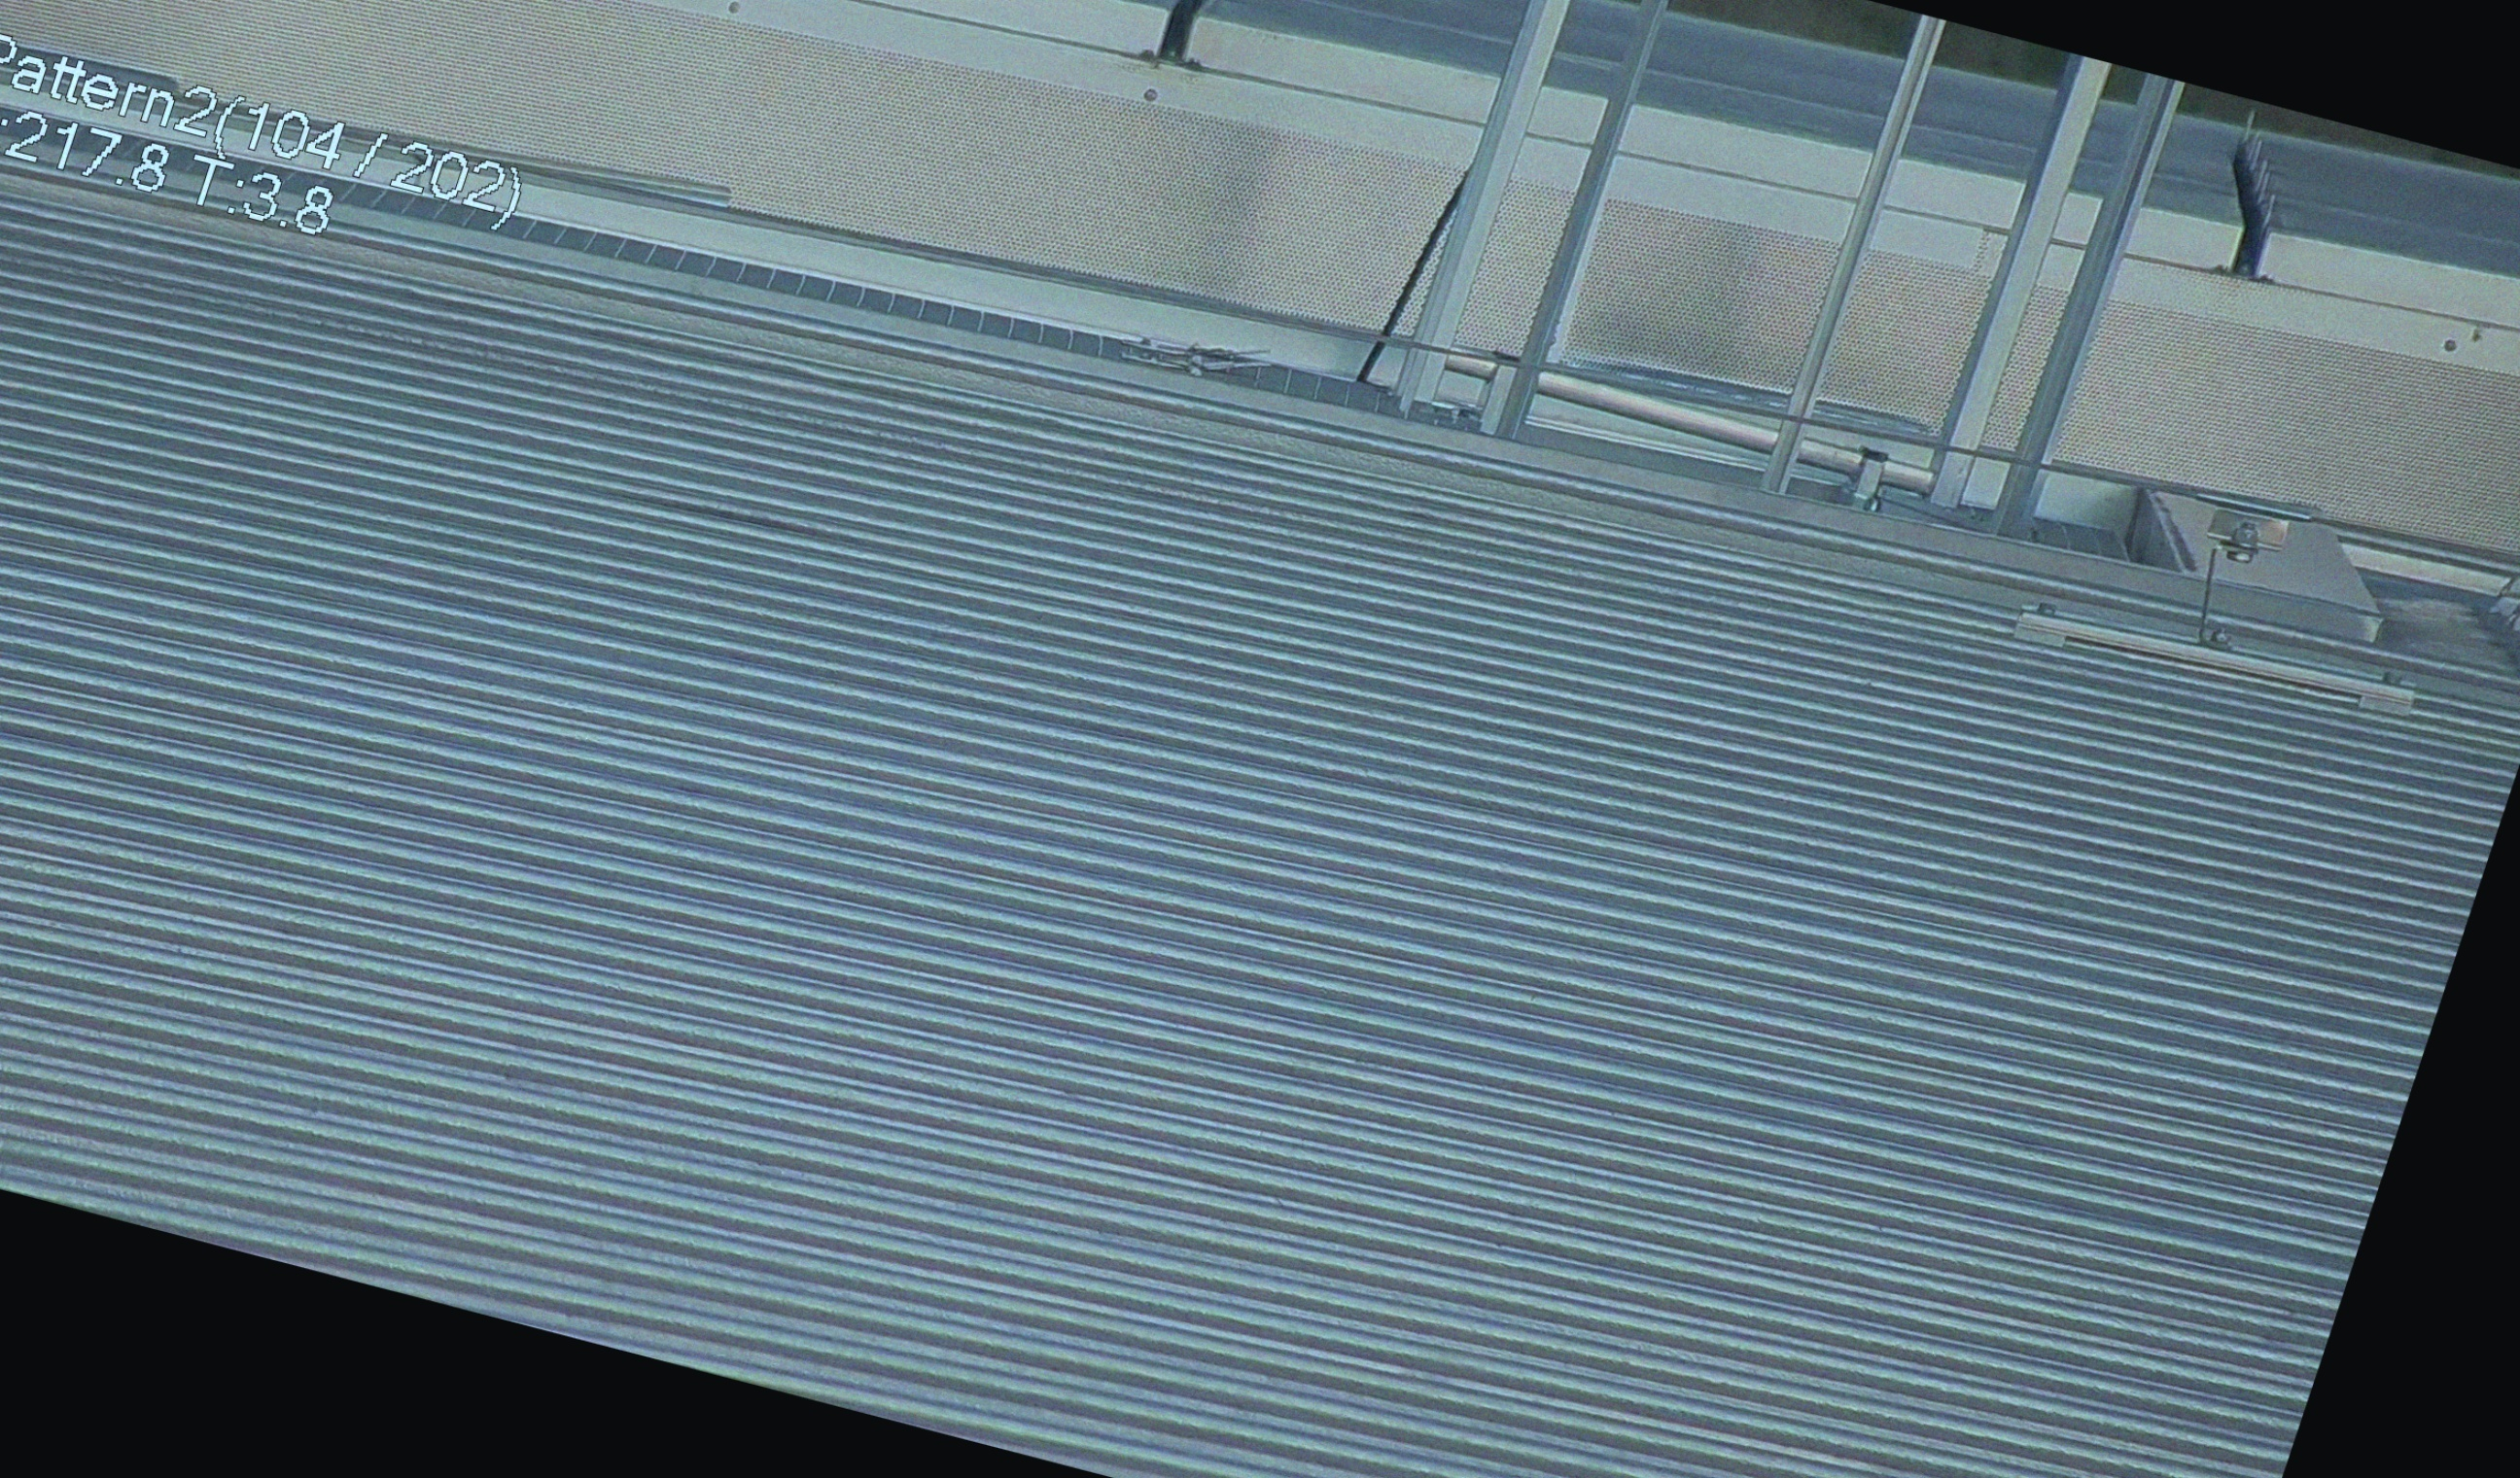Other: (2184, 107, 2335, 297)
